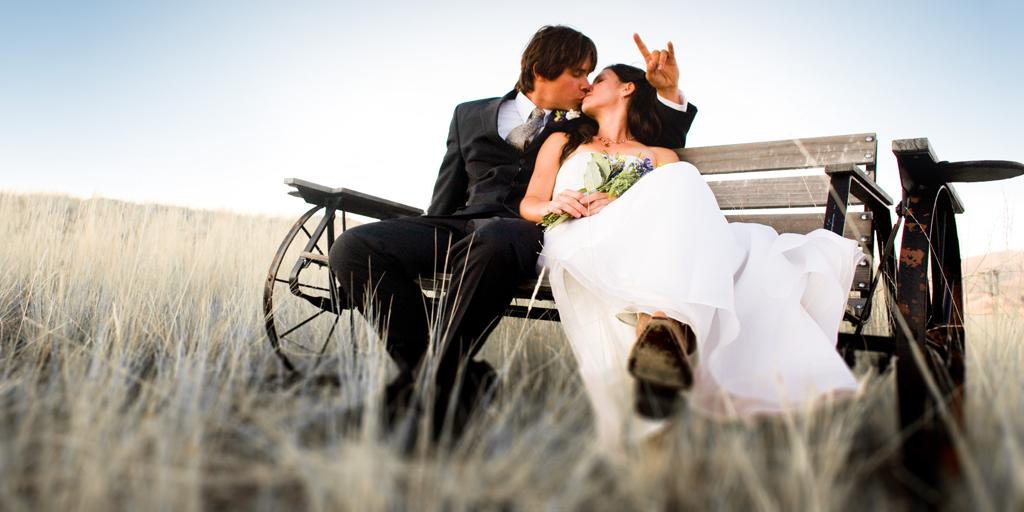face: (541, 49, 589, 110), (581, 69, 620, 113)
